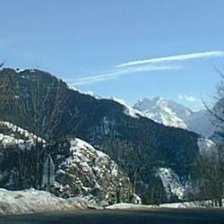neutral: (1, 23, 224, 207)
